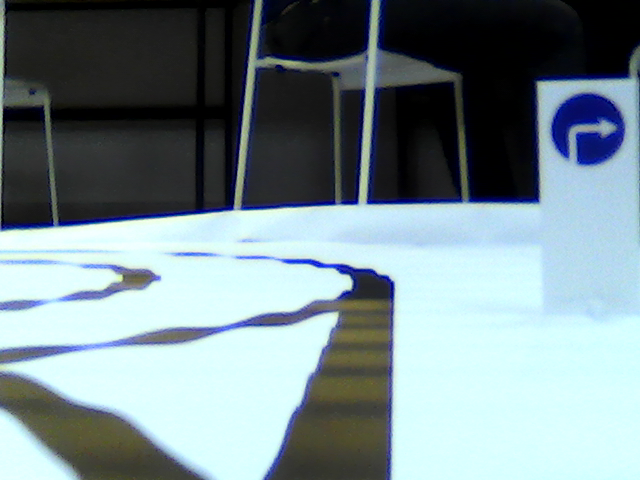Right: (548, 90, 628, 167)
